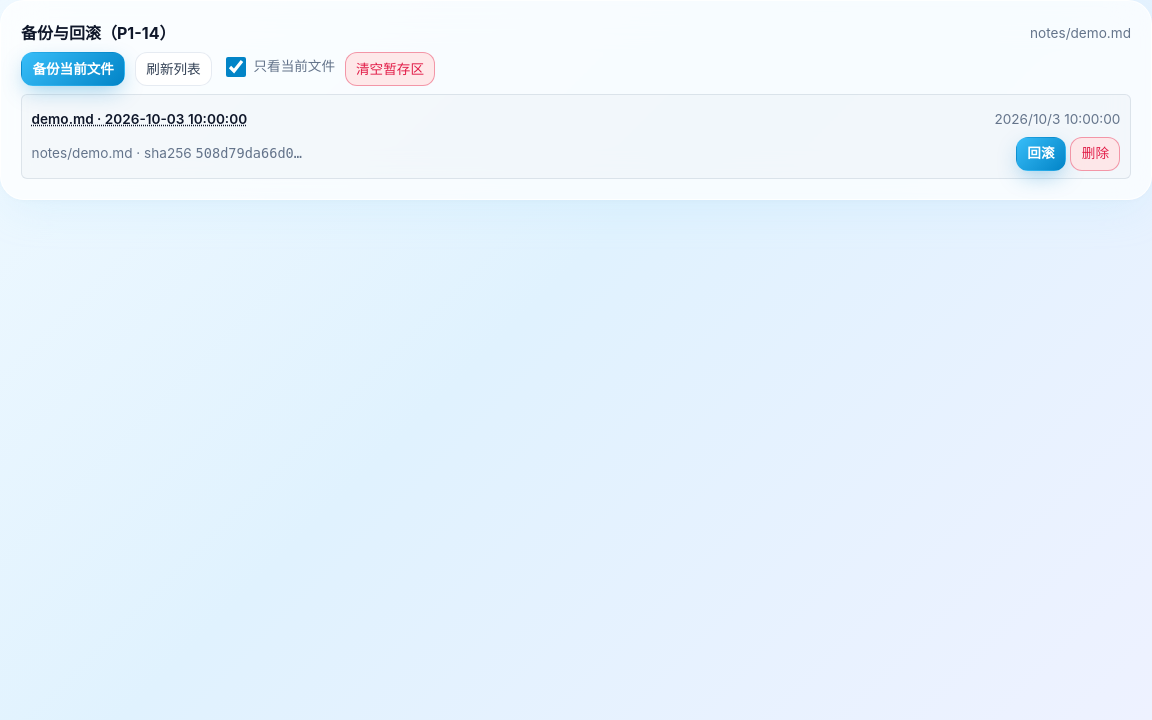
Test: 回滚与哈希一致性 › 取消弹窗不写盘
Click the button with test id "rollback-btn-ws_rec_1".
click(1041, 154)  # box [1016,137,1066,171]
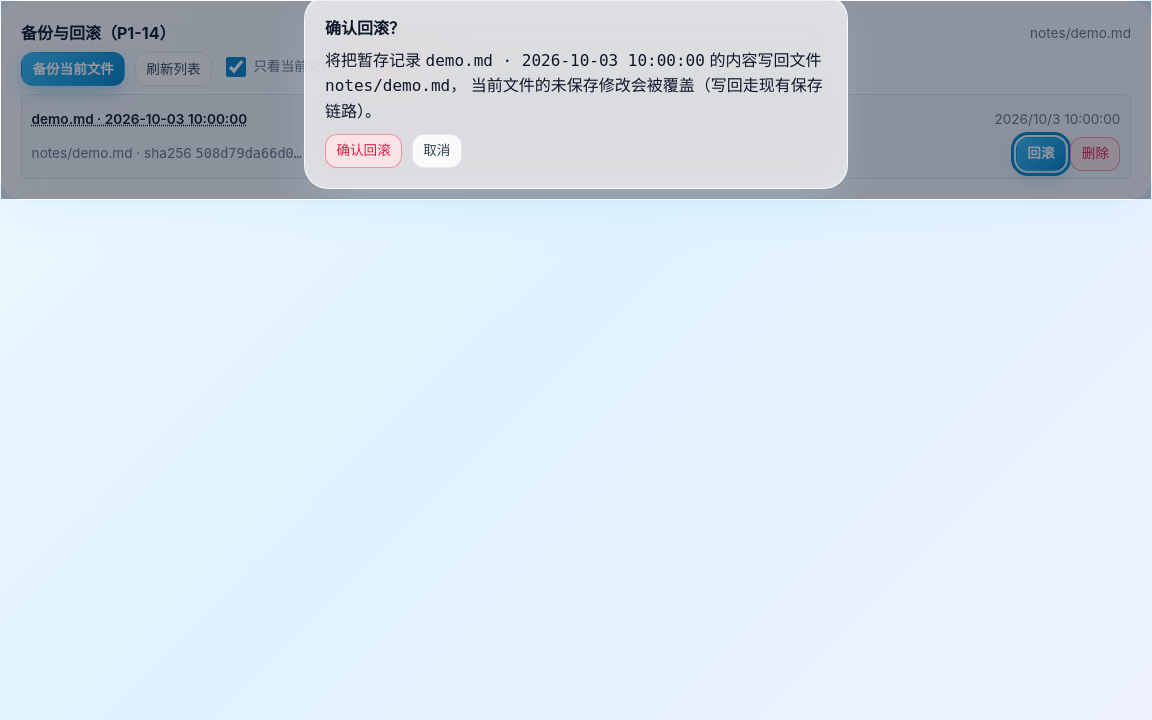
Click the button "取消".
click(437, 151)  # box [412,134,462,168]
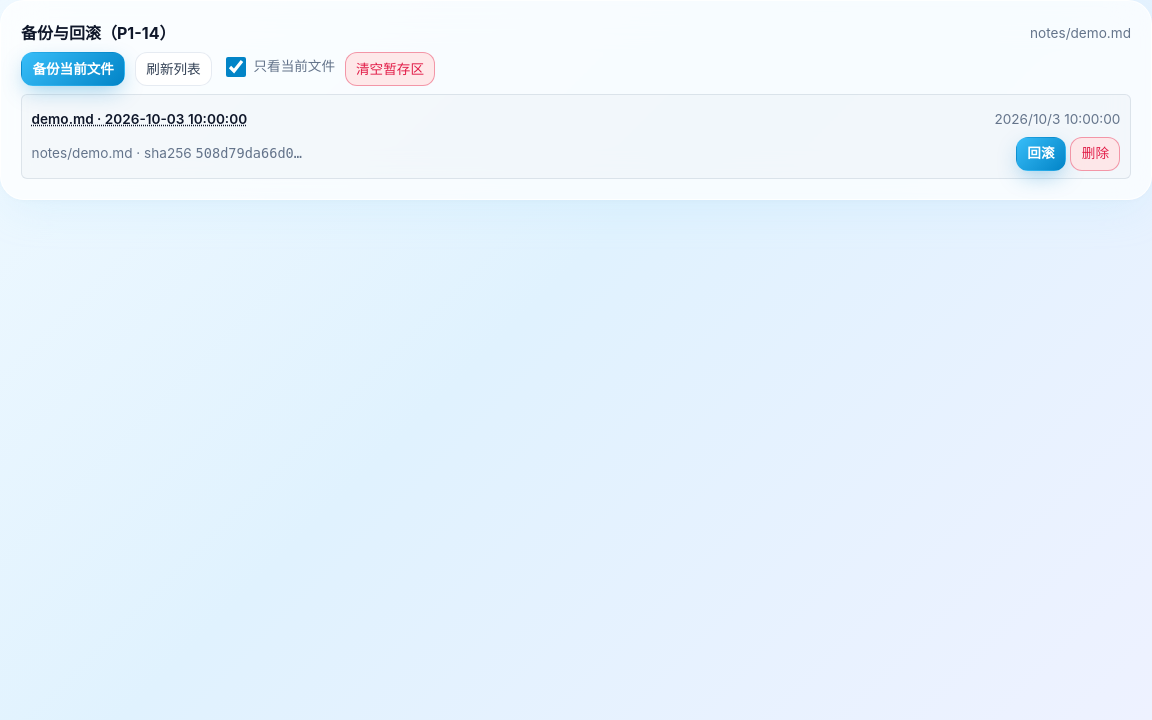
Check: the dialog with test id "rollback-confirm" is gone
